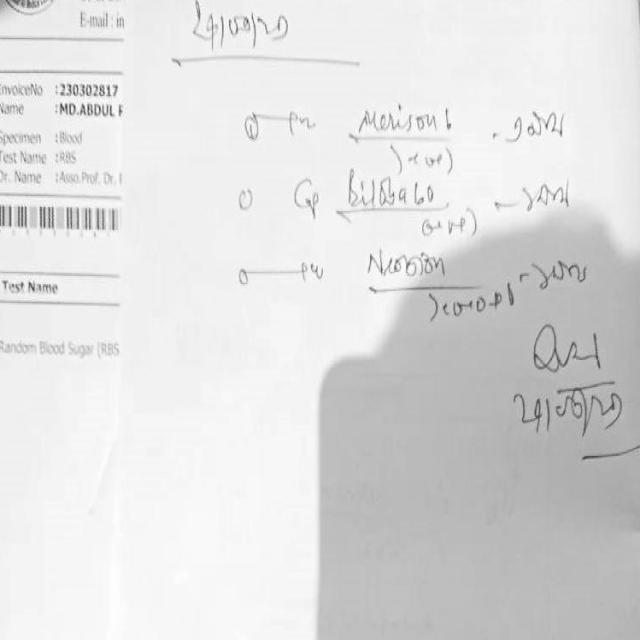medicine: (363, 238, 452, 284), (348, 98, 440, 138), (342, 172, 414, 210)
